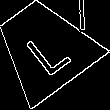L_NW: (16, 17, 72, 77)
